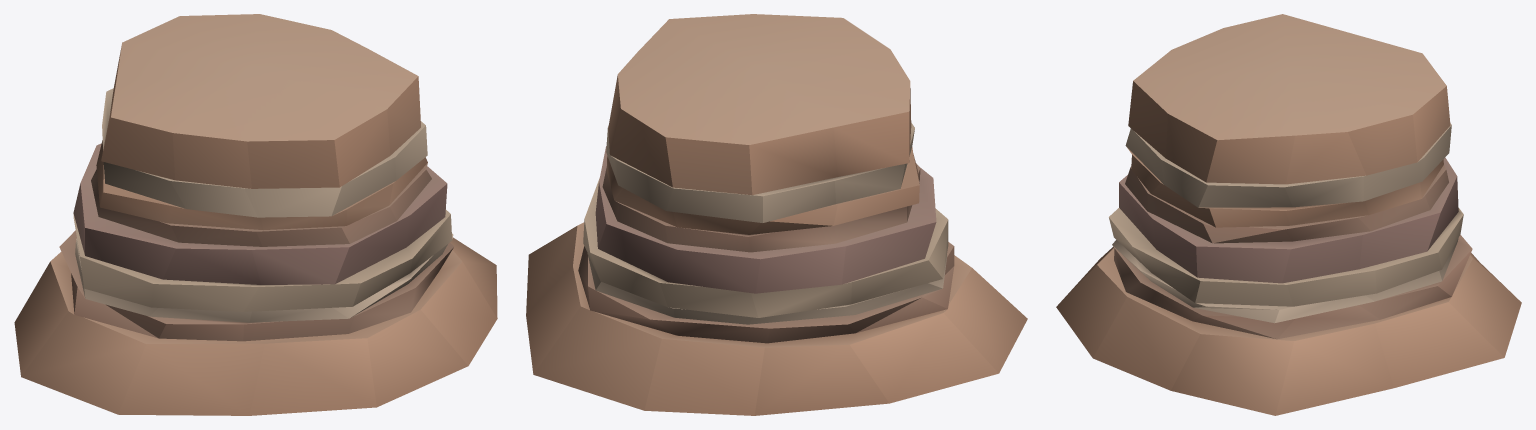
Rendered from mesa_a_lo.glb.
3 views of the same model, side by side, from view 1: azimuth 30°, elevation 25°; view 2: azimuth 150°, elevation 25°; view 3: azimuth 270°, elevation 25° (orthographic). The views are drawn at different scales.
Parts seen in each view (by area): view 1: mesa_a_lo; view 2: mesa_a_lo; view 3: mesa_a_lo.
Part boxes in pixels (x1,y1,x2,y2): mesa_a_lo: [14, 14, 497, 415]; mesa_a_lo: [526, 14, 1027, 415]; mesa_a_lo: [1056, 14, 1521, 415].
Bounding box in the file's own units: 31.07 × 15.6 × 28.08.
